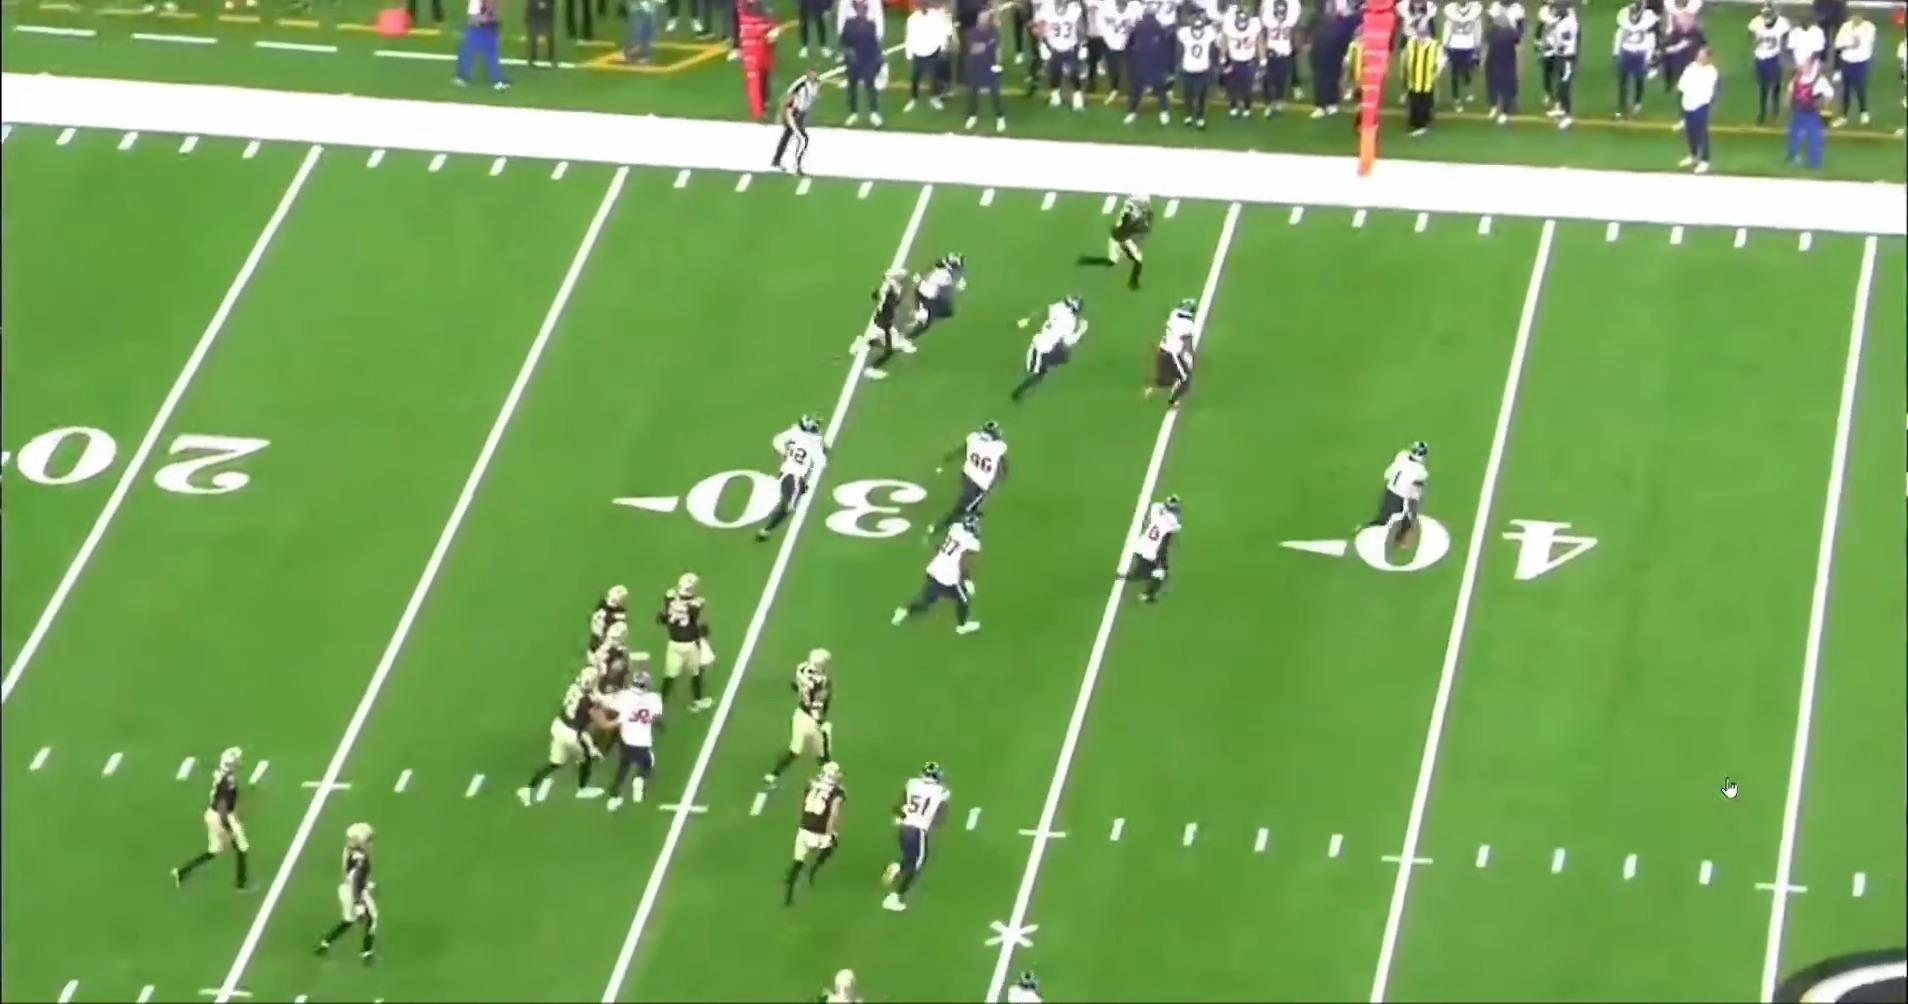defense: (901, 514, 1002, 646), (878, 757, 956, 923), (602, 672, 675, 814), (766, 412, 842, 544), (1013, 291, 1097, 409), (1360, 434, 1440, 551), (1117, 492, 1193, 609), (1147, 296, 1218, 415), (897, 251, 968, 349), (951, 422, 1012, 536)
oline: (519, 655, 623, 809), (761, 639, 845, 788), (653, 570, 720, 716), (581, 573, 637, 668)
qb: (168, 738, 262, 895)
ref: (759, 61, 824, 174)
skill: (311, 816, 390, 973), (776, 755, 852, 912), (856, 259, 920, 384), (1100, 193, 1158, 300)
